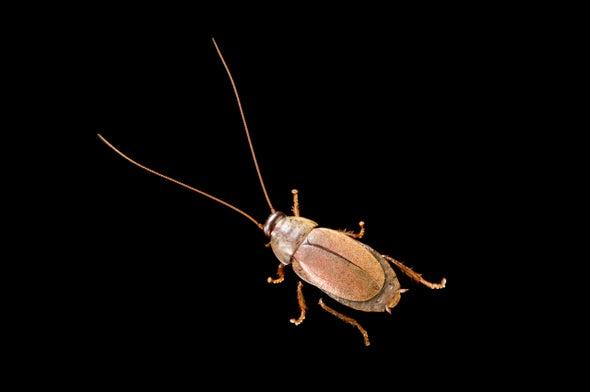cockroach: (259, 207, 411, 317)
